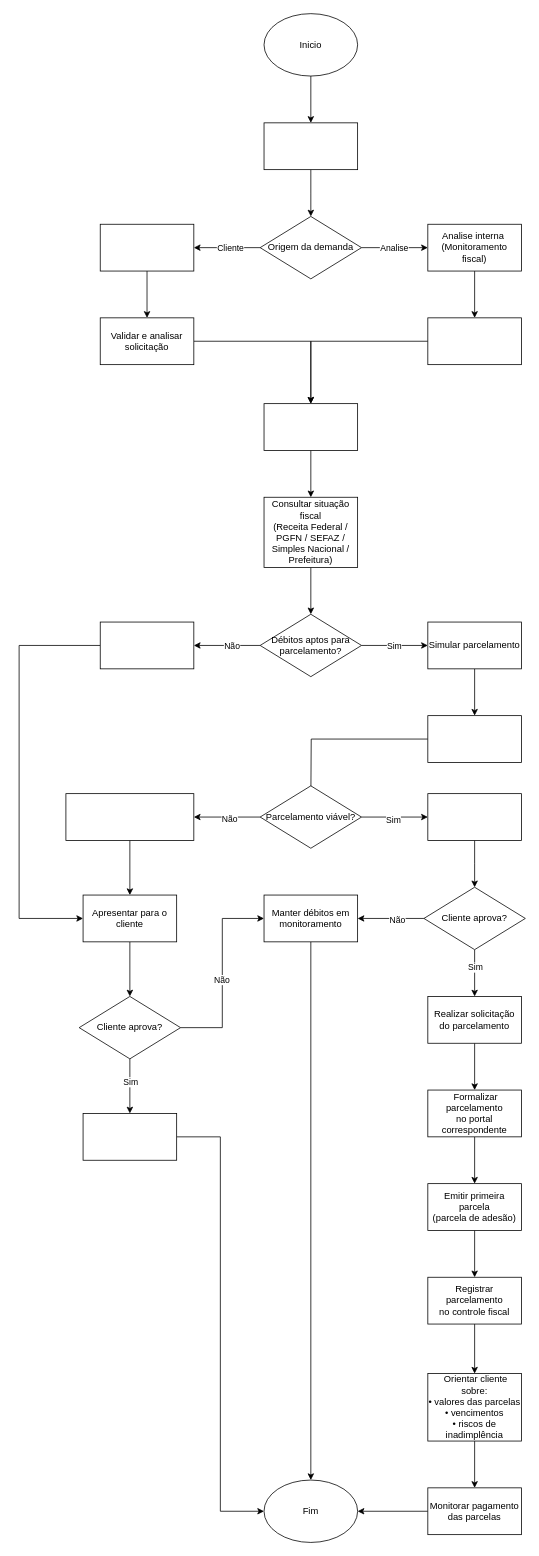
Image size: 539x1556. Some labels were removed from this diagram. Here are the shapes that lost their labels. From the top down, the box of each, then its label:
(263, 122, 358, 170): Identificação do parcelamento
(99, 223, 194, 271): Cliente solicita
(427, 317, 521, 365): Identificar debitos em aberto ou risco de inadimplencia
(263, 403, 358, 450): Levantamento de débitos
(99, 621, 194, 669): Orientar cliente sobre alternativas
(427, 715, 521, 762): Avaliar impacto no fluxo do cliente
(65, 793, 194, 840): Buscar outras alternativas, (compensação/regularização)
(427, 793, 521, 840): Apresentar proposta para o cliente
(82, 1113, 177, 1160): Realizar alternativa sugerida
